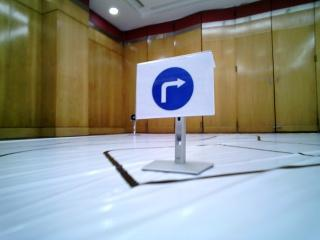right: (141, 64, 210, 110)
